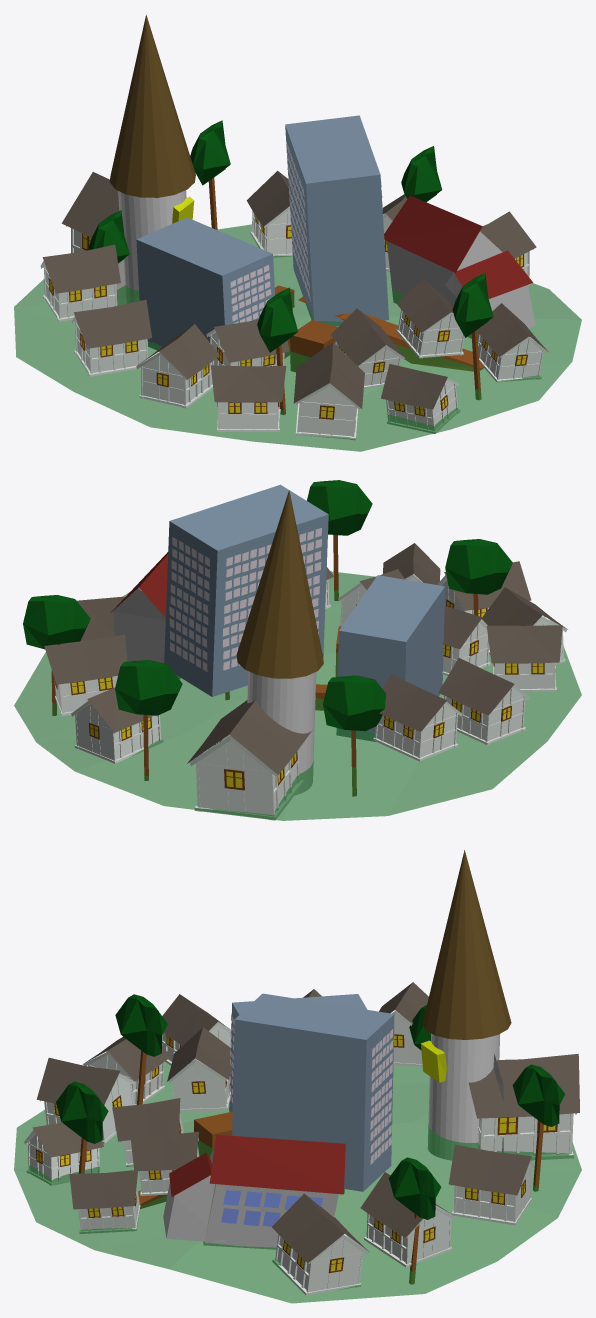
The model's file is city_european_1.glb.
The picture shows the model from 3 angles, top to bottom: view 1: azimuth 30°, elevation 25°; view 2: azimuth 150°, elevation 25°; view 3: azimuth 270°, elevation 25°; orthographic projection. The views are drawn at different scales.
Visible parts, largest first — view 1: Grass.001, Plane_000.001, Plane_000, Cube.000, Plane.016, WindowsDoubleHigh2Frame_004_005, WindowsDoubleHigh2Frame_004_001.001, WindowsDoubleHigh2Frame_004_001, WindowsDoubleHigh2Frame_004_003, WindowsDoubleHigh2Frame_004_005.001, WindowsDoubleHigh2Frame_004_002, WindowsDoubleHigh2Frame_004_002.002 (+13 smaller); view 2: Grass.001, Plane_000.001, Cube.000, Plane_000, WindowsDoubleHigh2Frame_004_006.001, WindowsDoubleHigh2Frame_004_001, WindowsDoubleHigh2Frame_004_001.001, WindowsDoubleHigh2Frame_004_000, WindowsDoubleHigh2Frame_004_005.001, WindowsDoubleHigh2Frame_004_006, Plane.016, Crate_016 (+10 smaller); view 3: Grass.001, Plane_000.001, Cube.000, Plane.016, WindowsDoubleHigh2Frame_004_006.001, WindowsDoubleHigh2Frame_004_004, WindowsDoubleHigh2Frame_004_006, WindowsDoubleHigh2Frame_004_000, WindowsDoubleHigh2Frame_004_005.002, WindowsDoubleHigh2Frame_004_002.002, WindowsDoubleHigh2Frame_004_005, WindowsDoubleHigh2Frame_004_002 (+11 smaller).
Part boxes in pixels (left/top/right/bottom): Grass.001: left=14, top=224, right=581, bottom=451; Plane_000.001: left=285, top=115, right=388, bottom=325; Plane_000: left=136, top=217, right=274, bottom=350; Cube.000: left=109, top=15, right=195, bottom=305; Plane.016: left=384, top=195, right=535, bottom=339; WindowsDoubleHigh2Frame_004_005: left=293, top=342, right=364, bottom=439; WindowsDoubleHigh2Frame_004_001.001: left=71, top=299, right=151, bottom=376; WindowsDoubleHigh2Frame_004_001: left=40, top=244, right=120, bottom=321; WindowsDoubleHigh2Frame_004_003: left=210, top=365, right=286, bottom=431; WindowsDoubleHigh2Frame_004_005.001: left=136, top=324, right=219, bottom=408; WindowsDoubleHigh2Frame_004_002: left=381, top=364, right=460, bottom=433; WindowsDoubleHigh2Frame_004_002.002: left=477, top=303, right=548, bottom=382; Grass.001: left=14, top=571, right=581, bottom=820; Plane_000.001: left=164, top=484, right=328, bottom=696; Cube.000: left=236, top=490, right=323, bottom=794; Plane_000: left=336, top=575, right=444, bottom=741; WindowsDoubleHigh2Frame_004_006.001: left=187, top=700, right=312, bottom=820; WindowsDoubleHigh2Frame_004_001: left=373, top=674, right=462, bottom=761; WindowsDoubleHigh2Frame_004_001.001: left=438, top=658, right=529, bottom=744; WindowsDoubleHigh2Frame_004_000: left=44, top=634, right=127, bottom=716; WindowsDoubleHigh2Frame_004_005.001: left=486, top=625, right=562, bottom=691; WindowsDoubleHigh2Frame_004_006: left=71, top=687, right=163, bottom=763; Plane.016: left=110, top=552, right=180, bottom=678; Crate_016: left=115, top=660, right=182, bottom=780; Grass.001: left=14, top=1061, right=581, bottom=1303; Plane_000.001: left=232, top=993, right=394, bottom=1191; Cube.000: left=421, top=850, right=511, bottom=1160; Plane.016: left=163, top=1134, right=345, bottom=1249; WindowsDoubleHigh2Frame_004_006.001: left=468, top=1053, right=579, bottom=1160; WindowsDoubleHigh2Frame_004_004: left=272, top=1193, right=369, bottom=1295; WindowsDoubleHigh2Frame_004_006: left=448, top=1144, right=534, bottom=1225; WindowsDoubleHigh2Frame_004_000: left=360, top=1172, right=455, bottom=1267; WindowsDoubleHigh2Frame_004_005.002: left=167, top=1027, right=232, bottom=1111; WindowsDoubleHigh2Frame_004_002.002: left=69, top=1169, right=140, bottom=1233; WindowsDoubleHigh2Frame_004_005: left=36, top=1057, right=135, bottom=1143; WindowsDoubleHigh2Frame_004_002: left=24, top=1122, right=103, bottom=1185.
Size of the model in its own units: 4.07 by 2.43 by 4.07.
